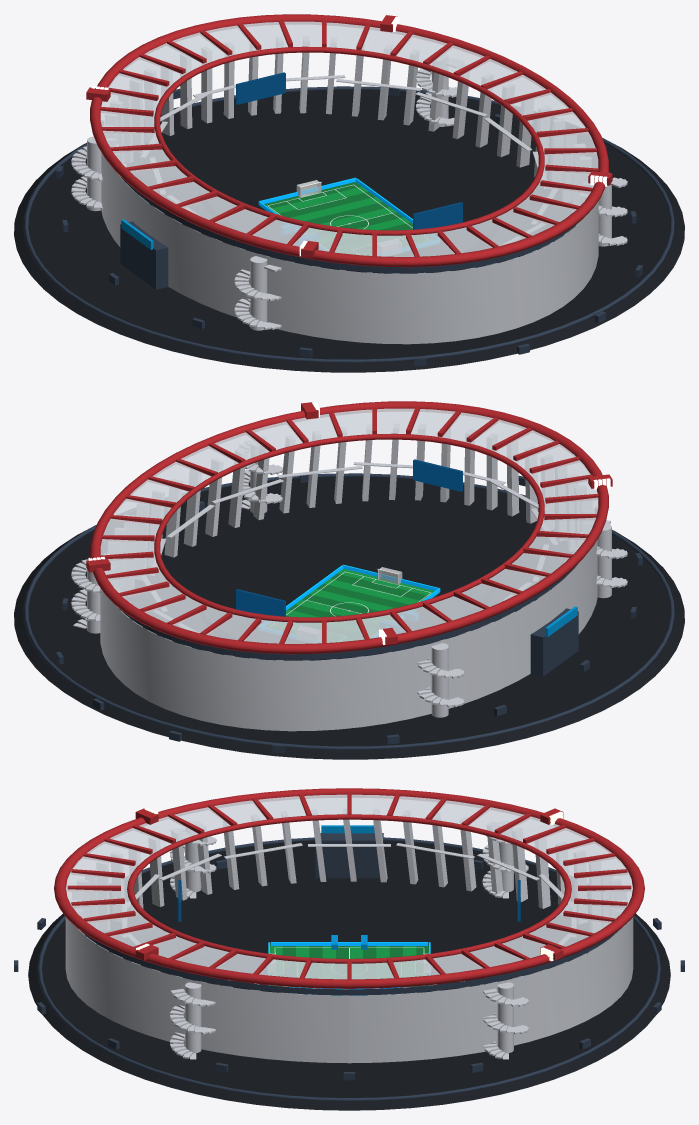
File: stadio_diego_armando_maradona.glb
3 views of the same model, one above another, from view 1: azimuth 30°, elevation 25°; view 2: azimuth 150°, elevation 25°; view 3: azimuth 270°, elevation 25° (orthographic). The views are drawn at different scales.
Visible parts, largest first — view 1: Piazzale_Tecchio_Plaza, Exterior_Inverted_Funnel_Wall, Translucent_Polycarbonate_Canopy, Truss_Perimeter_Compression_Ring, Cantilever_Space_Frame_Girders, Radial_Structural_Pylons_Costoloni, Inner_Tension_Ring, Football_Pitch_Field, Stadio_Diego_Armando_Maradona, Terzo_Anello_Balcony_Rail, Spiral_Ramp_Curva_A_West, Monumental_Main_Entrance_Portal (+7 smaller); view 2: Piazzale_Tecchio_Plaza, Exterior_Inverted_Funnel_Wall, Translucent_Polycarbonate_Canopy, Truss_Perimeter_Compression_Ring, Radial_Structural_Pylons_Costoloni, Cantilever_Space_Frame_Girders, Inner_Tension_Ring, Football_Pitch_Field, Stadio_Diego_Armando_Maradona, Terzo_Anello_Balcony_Rail, Monumental_Main_Entrance_Portal, Spiral_Ramp_Curva_B_West (+7 smaller); view 3: Piazzale_Tecchio_Plaza, Exterior_Inverted_Funnel_Wall, Translucent_Polycarbonate_Canopy, Truss_Perimeter_Compression_Ring, Radial_Structural_Pylons_Costoloni, Cantilever_Space_Frame_Girders, Inner_Tension_Ring, Stadio_Diego_Armando_Maradona, Terzo_Anello_Balcony_Rail, Football_Pitch_Field, Monumental_Main_Entrance_Portal, Spiral_Ramp_Curva_A_East (+5 smaller).
Boxes of the visible parts, <box> form: Piazzale_Tecchio_Plaza: <box>14,89,684,372</box>; Exterior_Inverted_Funnel_Wall: <box>101,152,598,344</box>; Translucent_Polycarbonate_Canopy: <box>100,21,598,256</box>; Truss_Perimeter_Compression_Ring: <box>90,14,608,267</box>; Cantilever_Space_Frame_Girders: <box>100,20,598,256</box>; Radial_Structural_Pylons_Costoloni: <box>116,52,583,273</box>; Inner_Tension_Ring: <box>154,46,544,235</box>; Football_Pitch_Field: <box>258,177,412,230</box>; Stadio_Diego_Armando_Maradona: <box>24,86,674,362</box>; Terzo_Anello_Balcony_Rail: <box>121,177,578,273</box>; Spiral_Ramp_Curva_A_West: <box>234,256,281,330</box>; Monumental_Main_Entrance_Portal: <box>120,221,168,289</box>; Piazzale_Tecchio_Plaza: <box>14,476,684,759</box>; Exterior_Inverted_Funnel_Wall: <box>100,539,597,731</box>; Translucent_Polycarbonate_Canopy: <box>100,408,598,643</box>; Truss_Perimeter_Compression_Ring: <box>90,401,608,654</box>; Radial_Structural_Pylons_Costoloni: <box>115,439,582,660</box>; Cantilever_Space_Frame_Girders: <box>100,407,598,643</box>; Inner_Tension_Ring: <box>154,433,544,622</box>; Football_Pitch_Field: <box>286,564,440,617</box>; Stadio_Diego_Armando_Maradona: <box>24,473,674,749</box>; Terzo_Anello_Balcony_Rail: <box>120,564,577,660</box>; Monumental_Main_Entrance_Portal: <box>530,608,578,676</box>; Spiral_Ramp_Curva_B_West: <box>417,642,464,717</box>; Piazzale_Tecchio_Plaza: <box>28,840,670,1110</box>; Exterior_Inverted_Funnel_Wall: <box>65,917,633,1063</box>; Translucent_Polycarbonate_Canopy: <box>66,794,632,979</box>; Truss_Perimeter_Compression_Ring: <box>54,788,644,988</box>; Radial_Structural_Pylons_Costoloni: <box>77,819,621,995</box>; Cantilever_Space_Frame_Girders: <box>67,792,631,979</box>; Inner_Tension_Ring: <box>127,814,571,963</box>; Stadio_Diego_Armando_Maradona: <box>38,837,660,1100</box>; Terzo_Anello_Balcony_Rail: <box>80,930,618,995</box>; Football_Pitch_Field: <box>268,935,430,989</box>; Monumental_Main_Entrance_Portal: <box>315,833,383,878</box>; Spiral_Ramp_Curva_A_East: <box>170,982,215,1059</box>.
Bounding box in the file's own units: 43.2 × 7.01 × 45.1.
